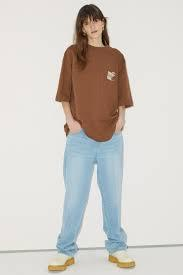Tshirt: (51, 40, 137, 142)
pants: (56, 130, 128, 258)
